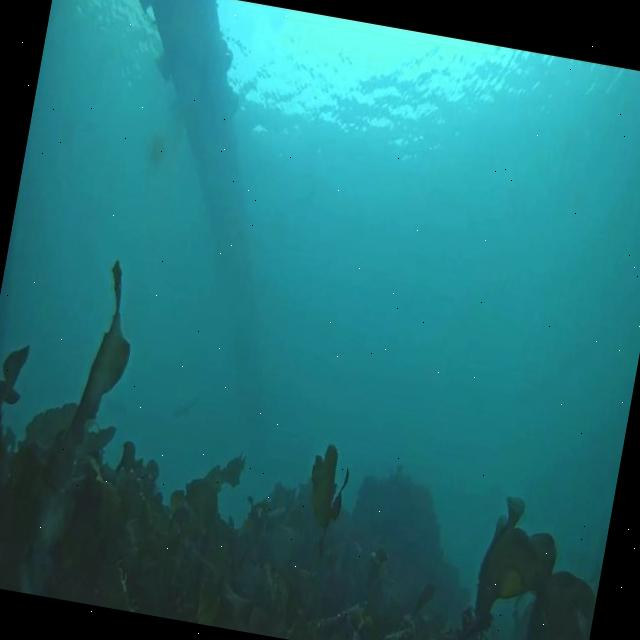fish: (176, 389, 198, 418)
